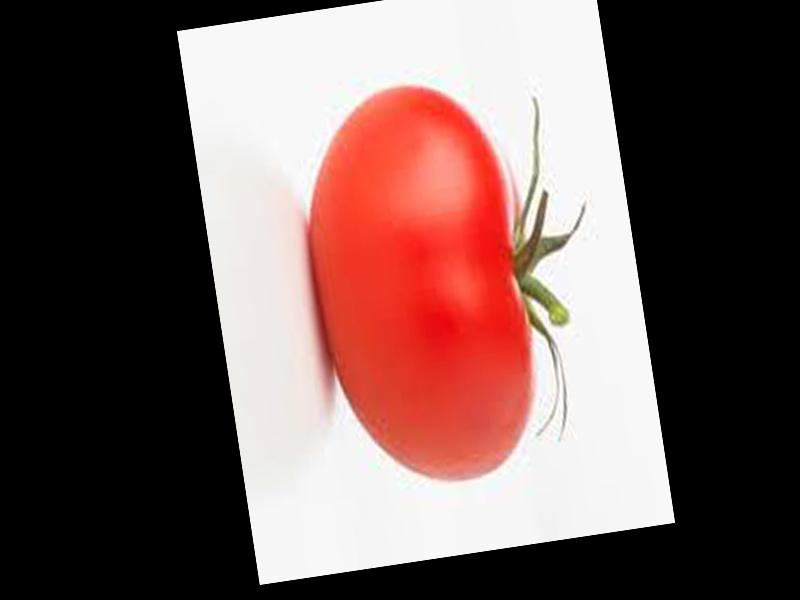Tomato: (289, 72, 551, 494)
